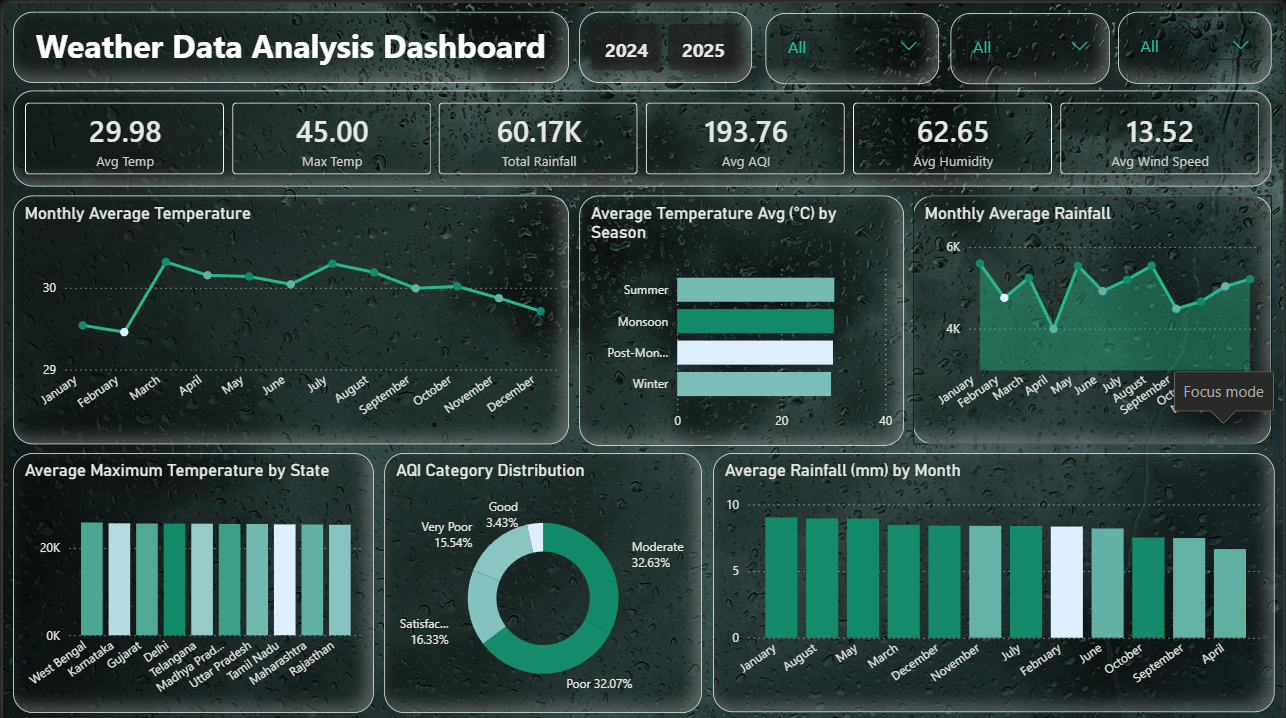

Layout of this report page (visuals, bound fields, positions):
{"tool":"powerbi","page":{"name":"Page 1","canvas":[1280,720],"ordinal":0},"visuals":[{"type":"lineChart","title":"Monthly Average Temperature","fields":{"Category":["weather_data_cleaned.Date.Variation.Date Hierarchy.Month"],"Y":["Avg(weather_data_cleaned.Temperature_Avg (°C))"]},"box":[10,192.5,556.2,248.8],"z":0},{"type":"textbox","box":[9.8,8.6,555.8,71.2],"z":1000},{"type":"cardVisual","fields":{"Data":["weather_data_cleaned.Avg Temp","weather_data_cleaned.Max Temp","weather_data_cleaned.Total Rainfall","weather_data_cleaned.Avg AQI","weather_data_cleaned.Avg Humidity","weather_data_cleaned.Avg Wind Speed"]},"box":[10,87.5,1258.8,96.2],"z":2000},{"type":"clusteredColumnChart","title":"Average Maximum Temperature by State","fields":{"Category":["weather_data_cleaned.State"],"Y":["Sum(weather_data_cleaned.Temperature_Max (°C))"]},"box":[10,450,361.1,260],"z":3000},{"type":"areaChart","title":"Monthly Average Rainfall","fields":{"Category":["weather_data_cleaned.Date.Variation.Date Hierarchy.Month"],"Y":["Sum(weather_data_cleaned.Rainfall (mm))"]},"box":[910,192.5,358.8,248.8],"z":4000},{"type":"clusteredColumnChart","title":"Average Rainfall (mm) by Month","fields":{"Category":["weather_data_cleaned.Month_Name"],"Y":["Avg(weather_data_cleaned.Rainfall (mm))"]},"box":[710,450.5,561.8,259.5],"z":5000},{"type":"donutChart","title":"AQI Category Distribution","fields":{"Category":["weather_data_cleaned.AQI_Category"],"Y":["CountNonNull(weather_data_cleaned.AQI)"]},"box":[381.1,450,317.8,260],"z":6000},{"type":"barChart","title":"Average Temperature Avg (°C) by Season","fields":{"Category":["weather_data_cleaned.Season"],"Y":["Avg(weather_data_cleaned.Temperature_Avg (°C))"]},"box":[576.2,192.5,325,250],"z":7000},{"type":"advancedSlicerVisual","fields":{"Values":["weather_data_cleaned.Date.Variation.Date Hierarchy.Year"]},"box":[576.7,8.6,172.5,71.2],"z":8000},{"type":"slicer","fields":{"Values":["weather_data_cleaned.State"]},"box":[762,9.8,173.8,71.2],"z":9000},{"type":"slicer","fields":{"Values":["weather_data_cleaned.City"]},"box":[947.2,9.8,159.5,71.2],"z":10000},{"type":"slicer","fields":{"Values":["weather_data_cleaned.Season"]},"box":[1115.3,8.6,153.4,72.4],"z":11000}]}

Visuals, with their boxes in screenshot pixels (x1, y1, x2, y2), scaled from the page's 1280x720 canvas onto the 1286x718 screenshot:
"Monthly Average Temperature" lineChart: [10,192,569,440]
textbox: [10,9,568,80]
cardVisual - weather_data_cleaned.Avg Temp x weather_data_cleaned.Max Temp: [10,87,1275,183]
"Average Maximum Temperature by State" clusteredColumnChart: [10,449,373,708]
"Monthly Average Rainfall" areaChart: [914,192,1275,440]
"Average Rainfall (mm) by Month" clusteredColumnChart: [713,449,1278,708]
"AQI Category Distribution" donutChart: [383,449,702,708]
"Average Temperature Avg (°C) by Season" barChart: [579,192,905,441]
advancedSlicerVisual - weather_data_cleaned.Date.Variation.Date Hierarchy.Year: [579,9,753,80]
slicer - weather_data_cleaned.State: [766,10,940,81]
slicer - weather_data_cleaned.City: [952,10,1112,81]
slicer - weather_data_cleaned.Season: [1121,9,1275,81]
